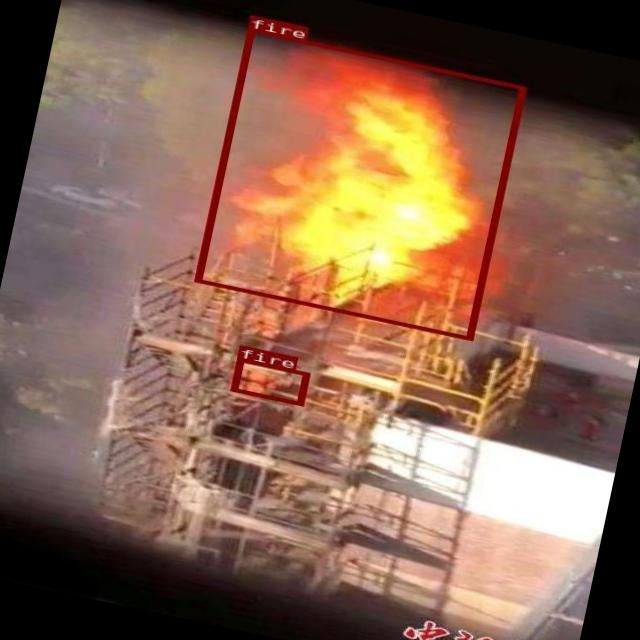fire: (192, 27, 524, 340), (230, 356, 308, 404)
